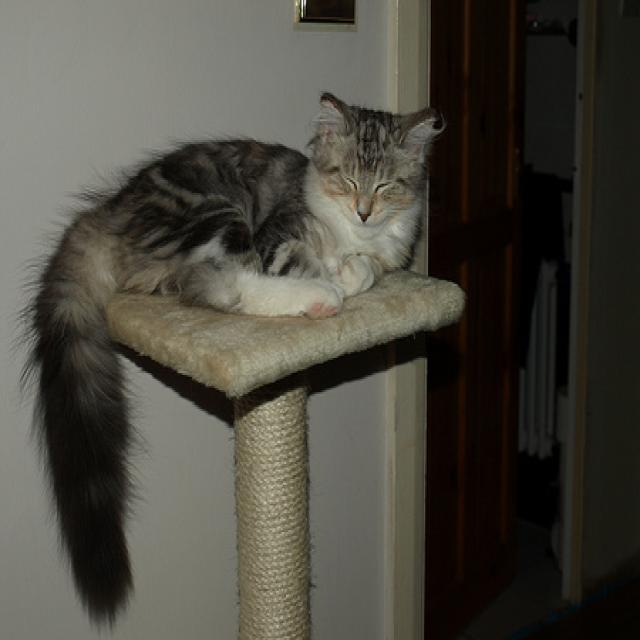Maine Coon: (31, 90, 444, 630)
